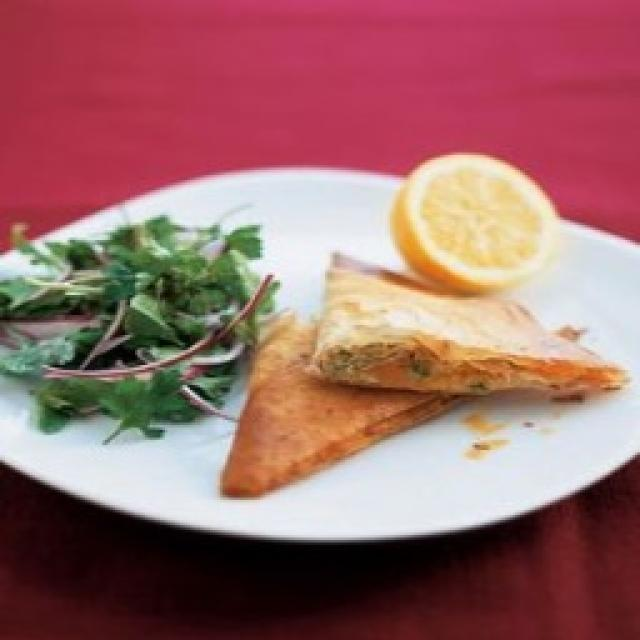Brik: (221, 252, 628, 496)
